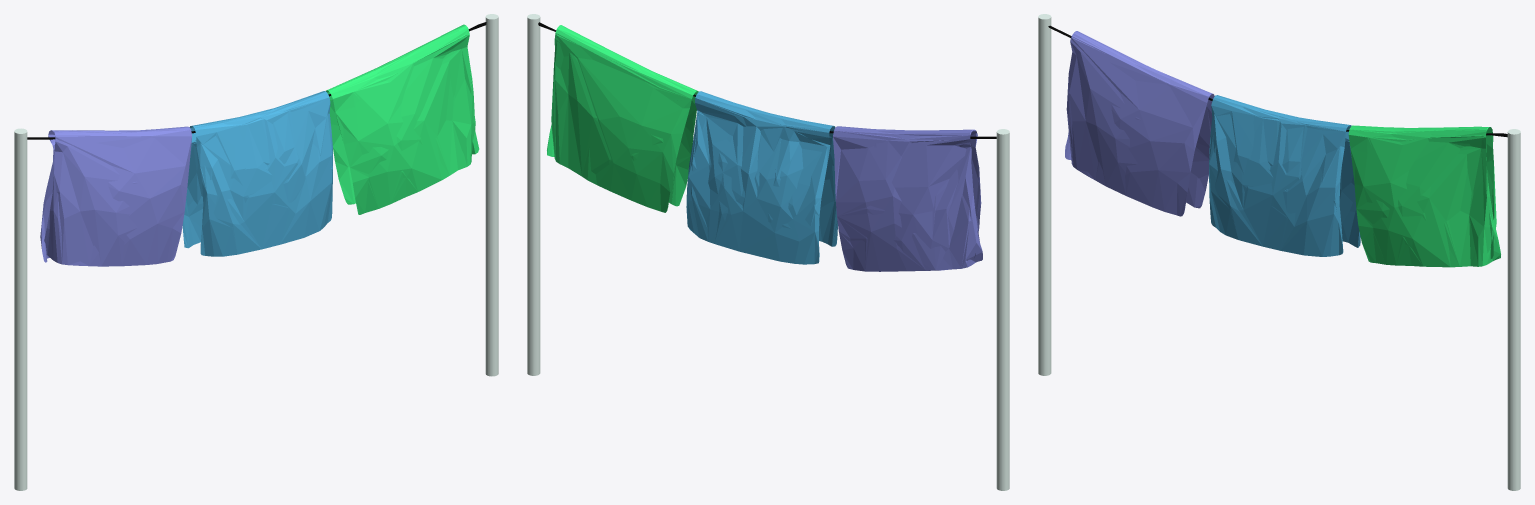
The model's file is Cloth Line Pole.fbx.
3 renders of one model, left to right at view 1: azimuth 30°, elevation 25°; view 2: azimuth 150°, elevation 25°; view 3: azimuth 330°, elevation 25°, orthographic.
Visible parts, largest first — view 1: Cube.003; view 2: Cube.003; view 3: Cube.003.
Part boxes in pixels (left/top/right/bottom): Cube.003: left=14, top=14, right=498, bottom=490; Cube.003: left=527, top=14, right=1009, bottom=490; Cube.003: left=1038, top=14, right=1520, bottom=490.
Size of the model in its own units: 702 by 497 by 73.37.
